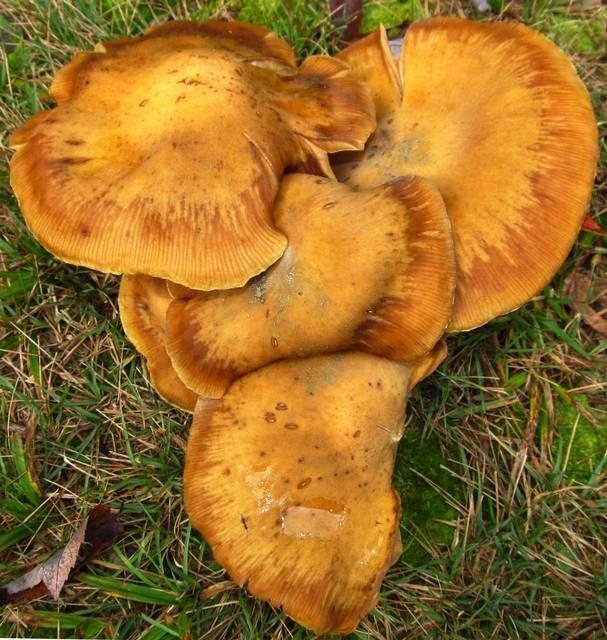edible_mushroom: (6, 13, 600, 637)
